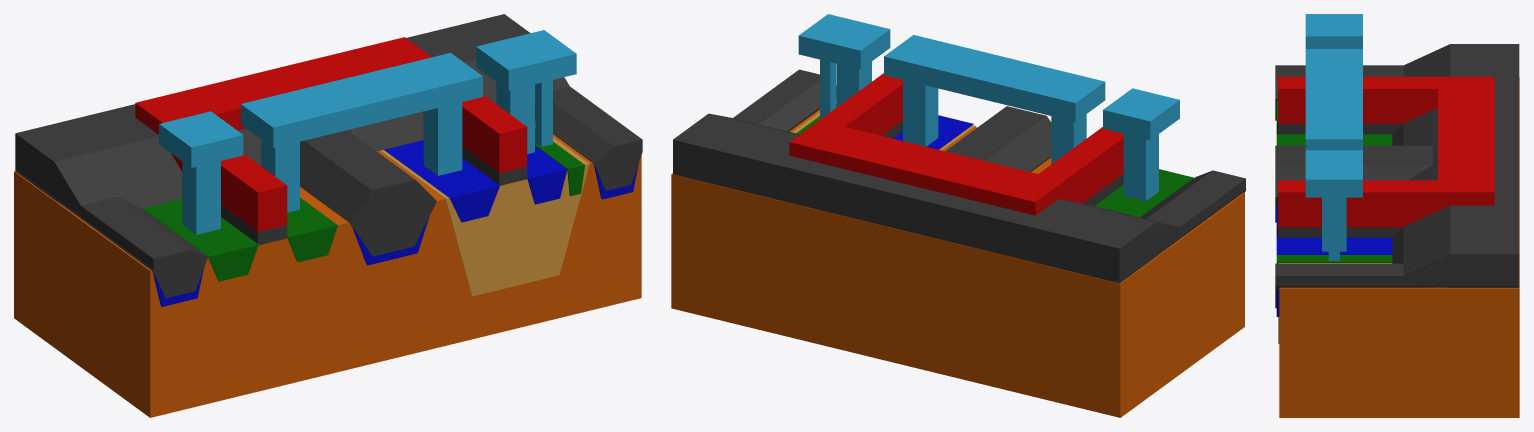
Rendered from CMOS Layout 3D.fbx.
The picture shows the model from 3 angles, left to right: view 1: azimuth 30°, elevation 25°; view 2: azimuth 150°, elevation 25°; view 3: azimuth 270°, elevation 25°; orthographic projection. The views are drawn at different scales.
Visible parts, largest first — view 1: Cube, Cube.001, Plane, Cube.008, Plane.008, Plane.011, Cube.009, Cube.007, Plane.002, Plane.004, Cube.005, Cube.003 (+10 smaller); view 2: Cube, Cube.001, Plane, Cube.008, Plane.011, Cube.009, Cube.007, Cube.003, Cube.005, Plane.002, Cube.002, Cube.004 (+3 smaller); view 3: Cube, Cube.001, Plane, Cube.008, Plane.011, Cube.009, Cube.007, Plane.010, Plane.005, Plane.007, Cube.004, Cube.006 (+2 smaller).
Boxes of the visible parts, x1=… form: Cube: x1=14, y1=121, x2=641, y2=417; Cube.001: x1=15, y1=14, x2=642, y2=270; Plane: x1=135, y1=37, x2=527, y2=232; Cube.008: x1=241, y1=53, x2=482, y2=147; Plane.008: x1=380, y1=124, x2=589, y2=296; Plane.011: x1=300, y1=130, x2=436, y2=256; Cube.009: x1=476, y1=30, x2=576, y2=90; Cube.007: x1=159, y1=111, x2=243, y2=167; Plane.002: x1=142, y1=199, x2=258, y2=281; Plane.004: x1=384, y1=140, x2=499, y2=222; Cube.005: x1=423, y1=102, x2=462, y2=175; Cube.003: x1=182, y1=161, x2=220, y2=234; Cube: x1=671, y1=97, x2=1244, y2=417; Cube.001: x1=673, y1=69, x2=1245, y2=283; Plane: x1=789, y1=73, x2=1123, y2=215; Cube.008: x1=884, y1=35, x2=1105, y2=121; Plane.011: x1=945, y1=106, x2=1051, y2=171; Cube.009: x1=798, y1=14, x2=890, y2=69; Cube.007: x1=1103, y1=88, x2=1179, y2=139; Cube.003: x1=1123, y1=134, x2=1158, y2=201; Cube.005: x1=903, y1=80, x2=938, y2=146; Plane.002: x1=1094, y1=169, x2=1193, y2=217; Cube.002: x1=1051, y1=114, x2=1086, y2=164; Cube.004: x1=836, y1=61, x2=871, y2=106; Cube: x1=1279, y1=77, x2=1519, y2=417; Cube.001: x1=1275, y1=44, x2=1519, y2=287; Plane: x1=1278, y1=76, x2=1494, y2=227; Cube.008: x1=1305, y1=49, x2=1362, y2=150; Plane.011: x1=1275, y1=145, x2=1432, y2=222; Cube.009: x1=1305, y1=150, x2=1362, y2=197; Cube.007: x1=1305, y1=14, x2=1362, y2=48; Plane.010: x1=1278, y1=124, x2=1402, y2=237; Plane.005: x1=1276, y1=237, x2=1392, y2=254; Plane.007: x1=1276, y1=255, x2=1392, y2=263; Cube.004: x1=1322, y1=197, x2=1346, y2=251; Cube.006: x1=1328, y1=197, x2=1339, y2=260.
Bounding box in the file's own units: 900 × 440 × 430.
